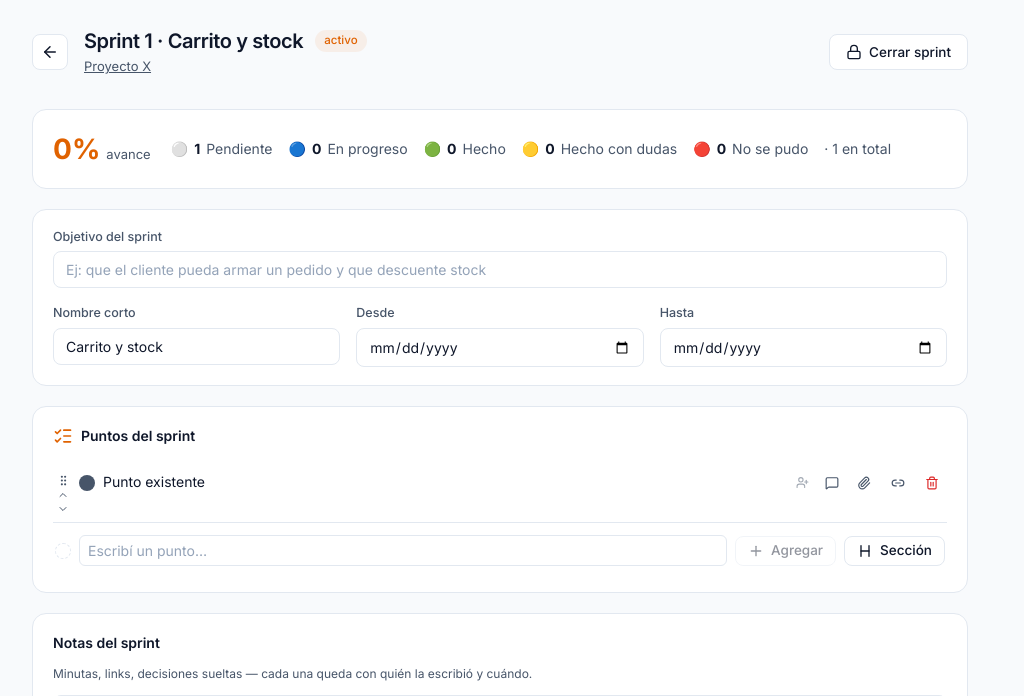
Test: SprintDetalle — puntos › adjuntar un link: click, pegar URL, Enter -> se agrega como chip
Click the button titled "Adjuntar link". click: (898, 483)
box: left=885, top=470, right=911, bottom=496
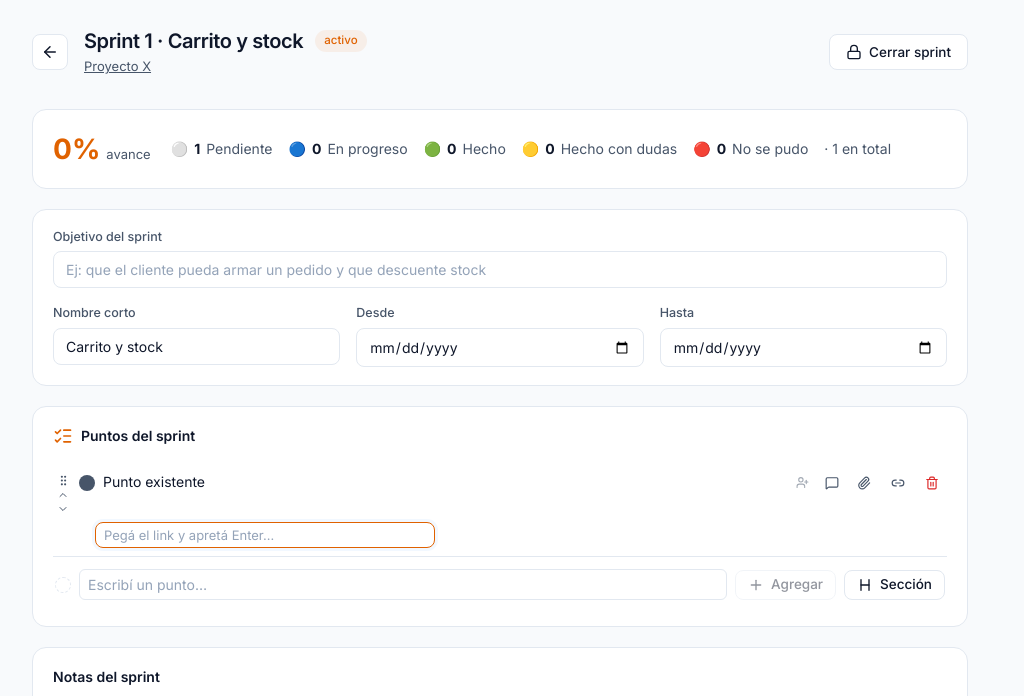
Type "https://github.com/apsol/repo" into the field with placeholder "Pegá el link y apretá Enter…". click: (265, 535)
box: left=95, top=522, right=435, bottom=548
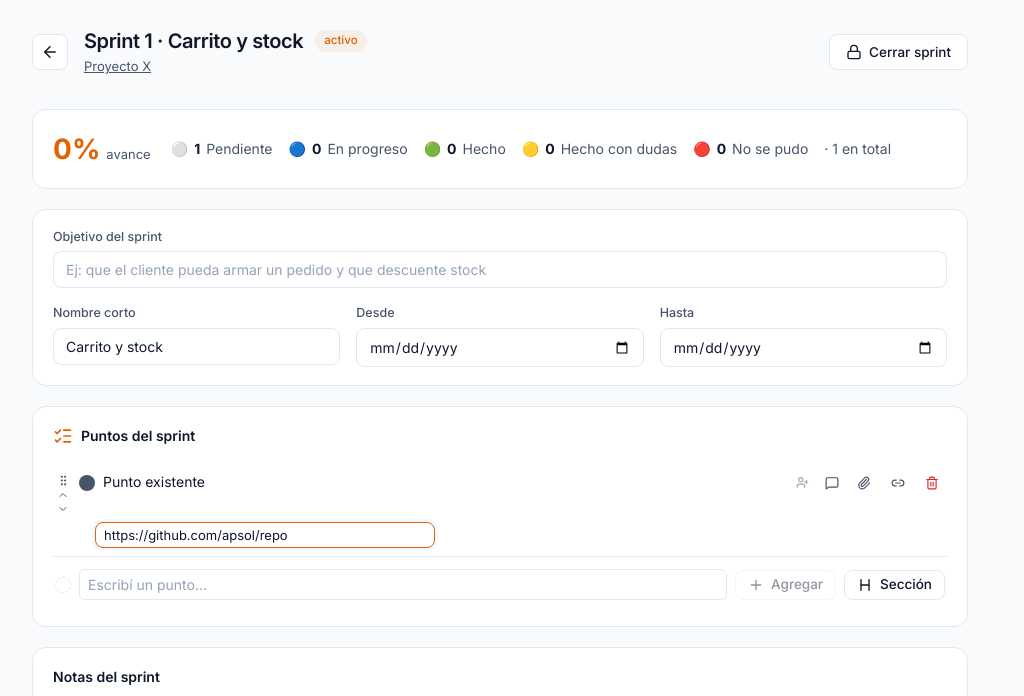
Press Enter in the field with placeholder "Pegá el link y apretá Enter…" below "Punto existente", box left=95, top=522, right=435, bottom=548
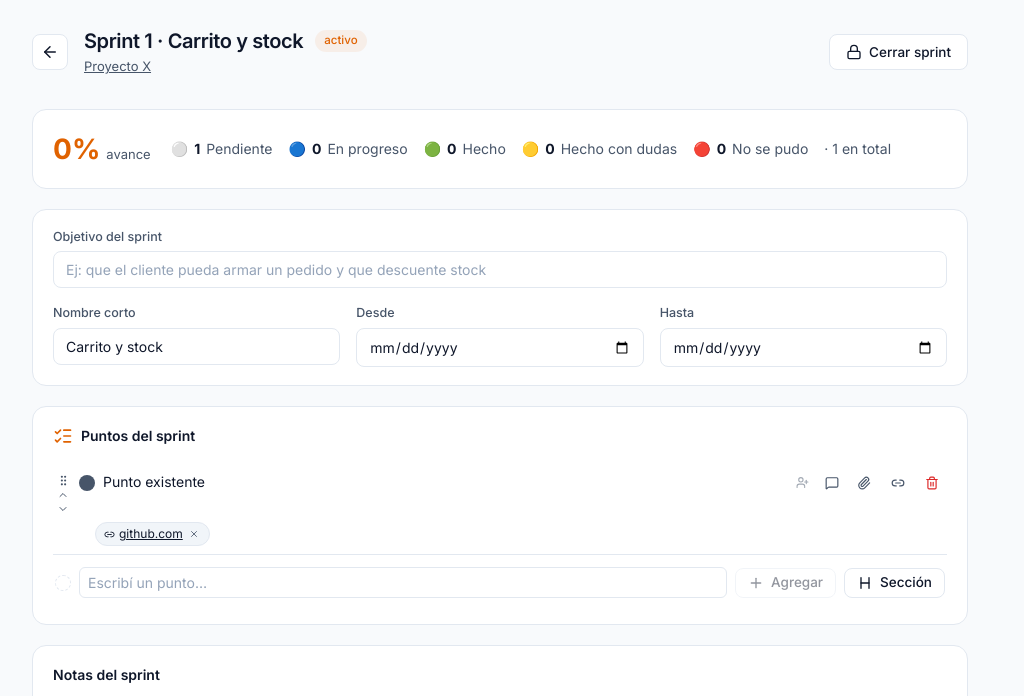
expect the link "github.com" is shown: met, box left=119, top=525, right=183, bottom=543
